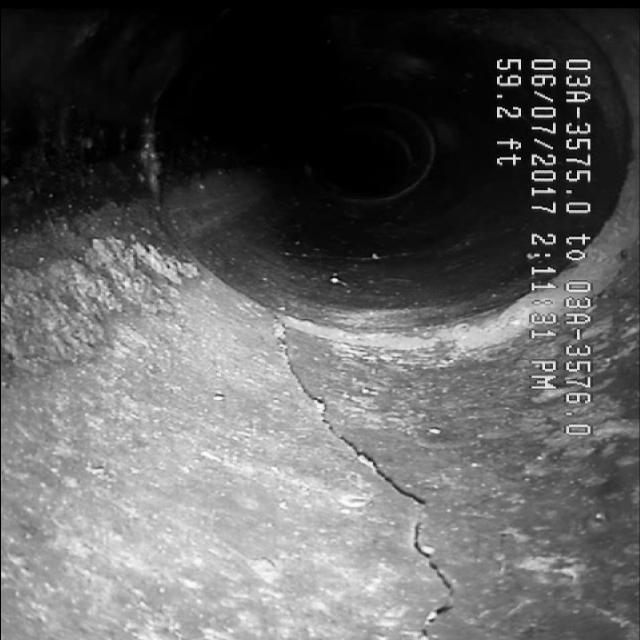Fracture: (284, 380, 474, 616)
